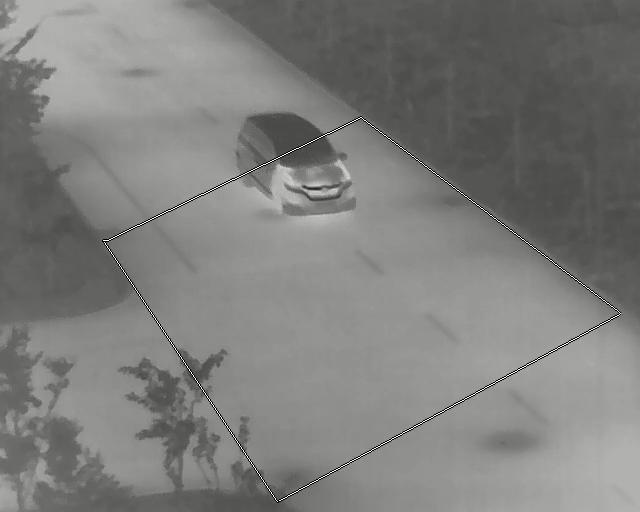vehicle: (235, 113, 357, 214)
